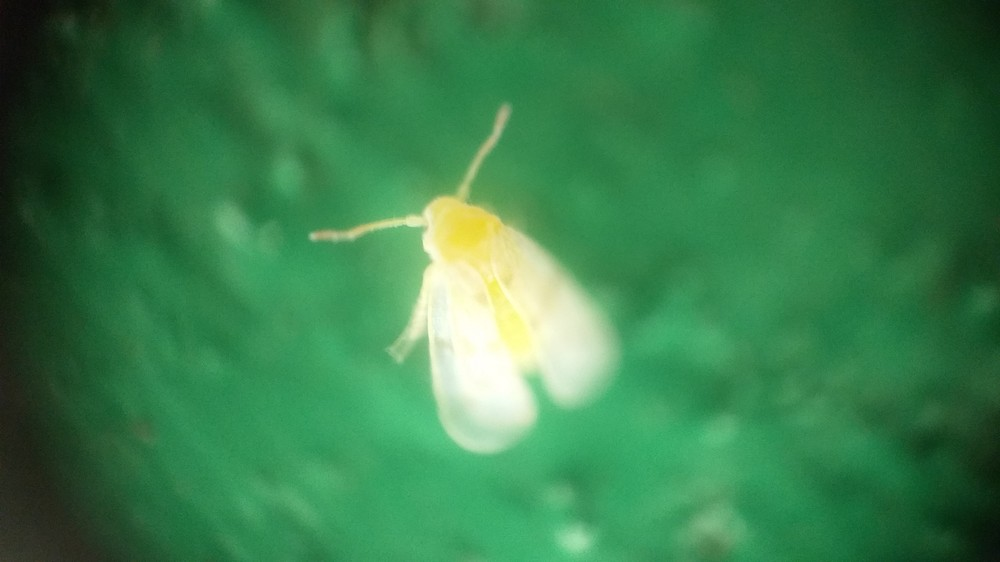Mosca Blanca: (297, 93, 664, 470)
